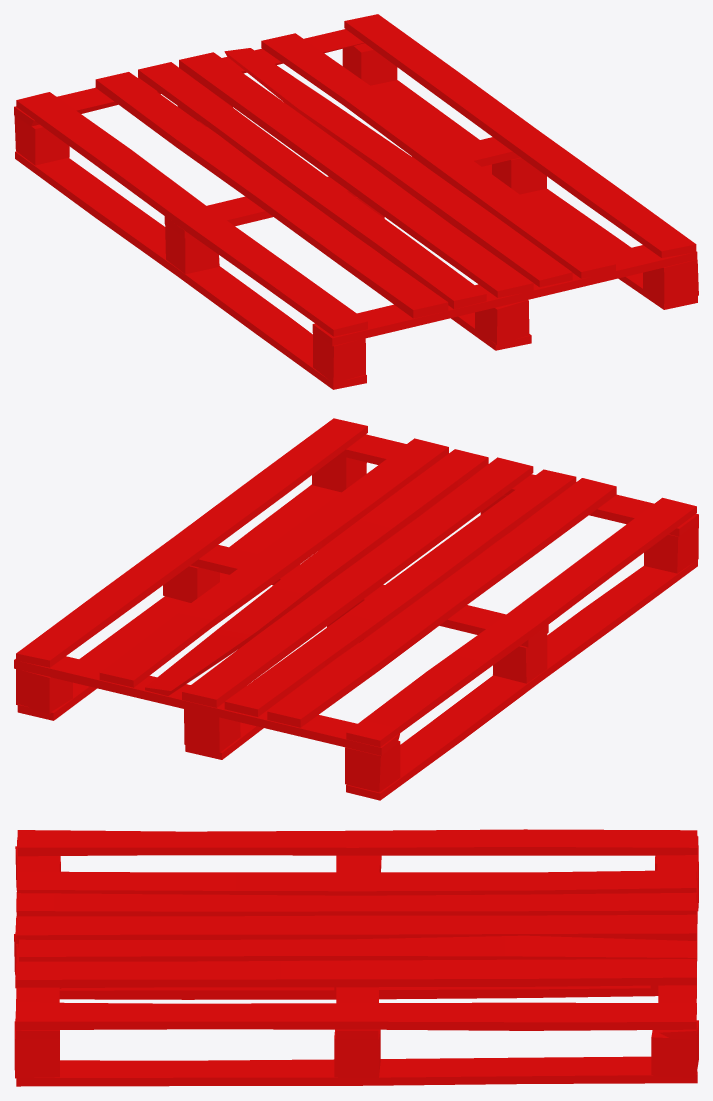
Rendered from SM_Pallet_02.glb.
3 views of the same model, one above another, from view 1: azimuth 30°, elevation 25°; view 2: azimuth 150°, elevation 25°; view 3: azimuth 270°, elevation 25° (orthographic). The views are drawn at different scales.
Visible parts, largest first — view 1: SM_Pallet_02_LOD0; view 2: SM_Pallet_02_LOD0; view 3: SM_Pallet_02_LOD0.
Boxes of the visible parts, <box> form: SM_Pallet_02_LOD0: <box>14,14,698,389</box>; SM_Pallet_02_LOD0: <box>14,418,698,800</box>; SM_Pallet_02_LOD0: <box>14,829,698,1086</box>.
Bounding box in the file's own units: 0.8043 × 0.131 × 1.21.
